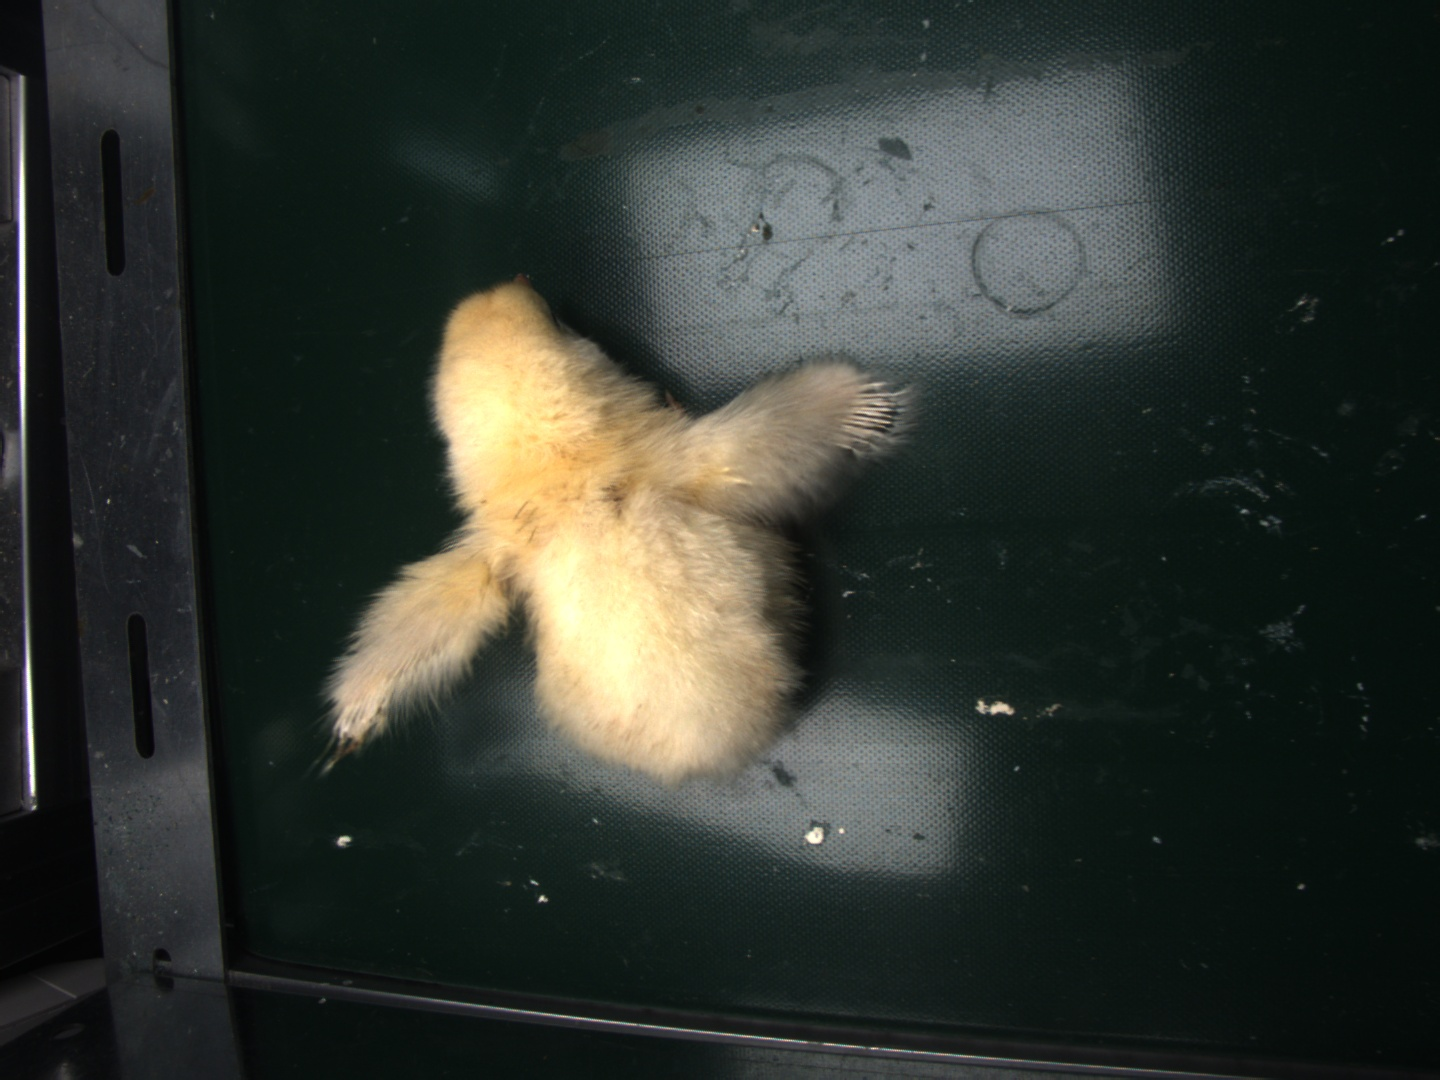male: (839, 377, 900, 448)
